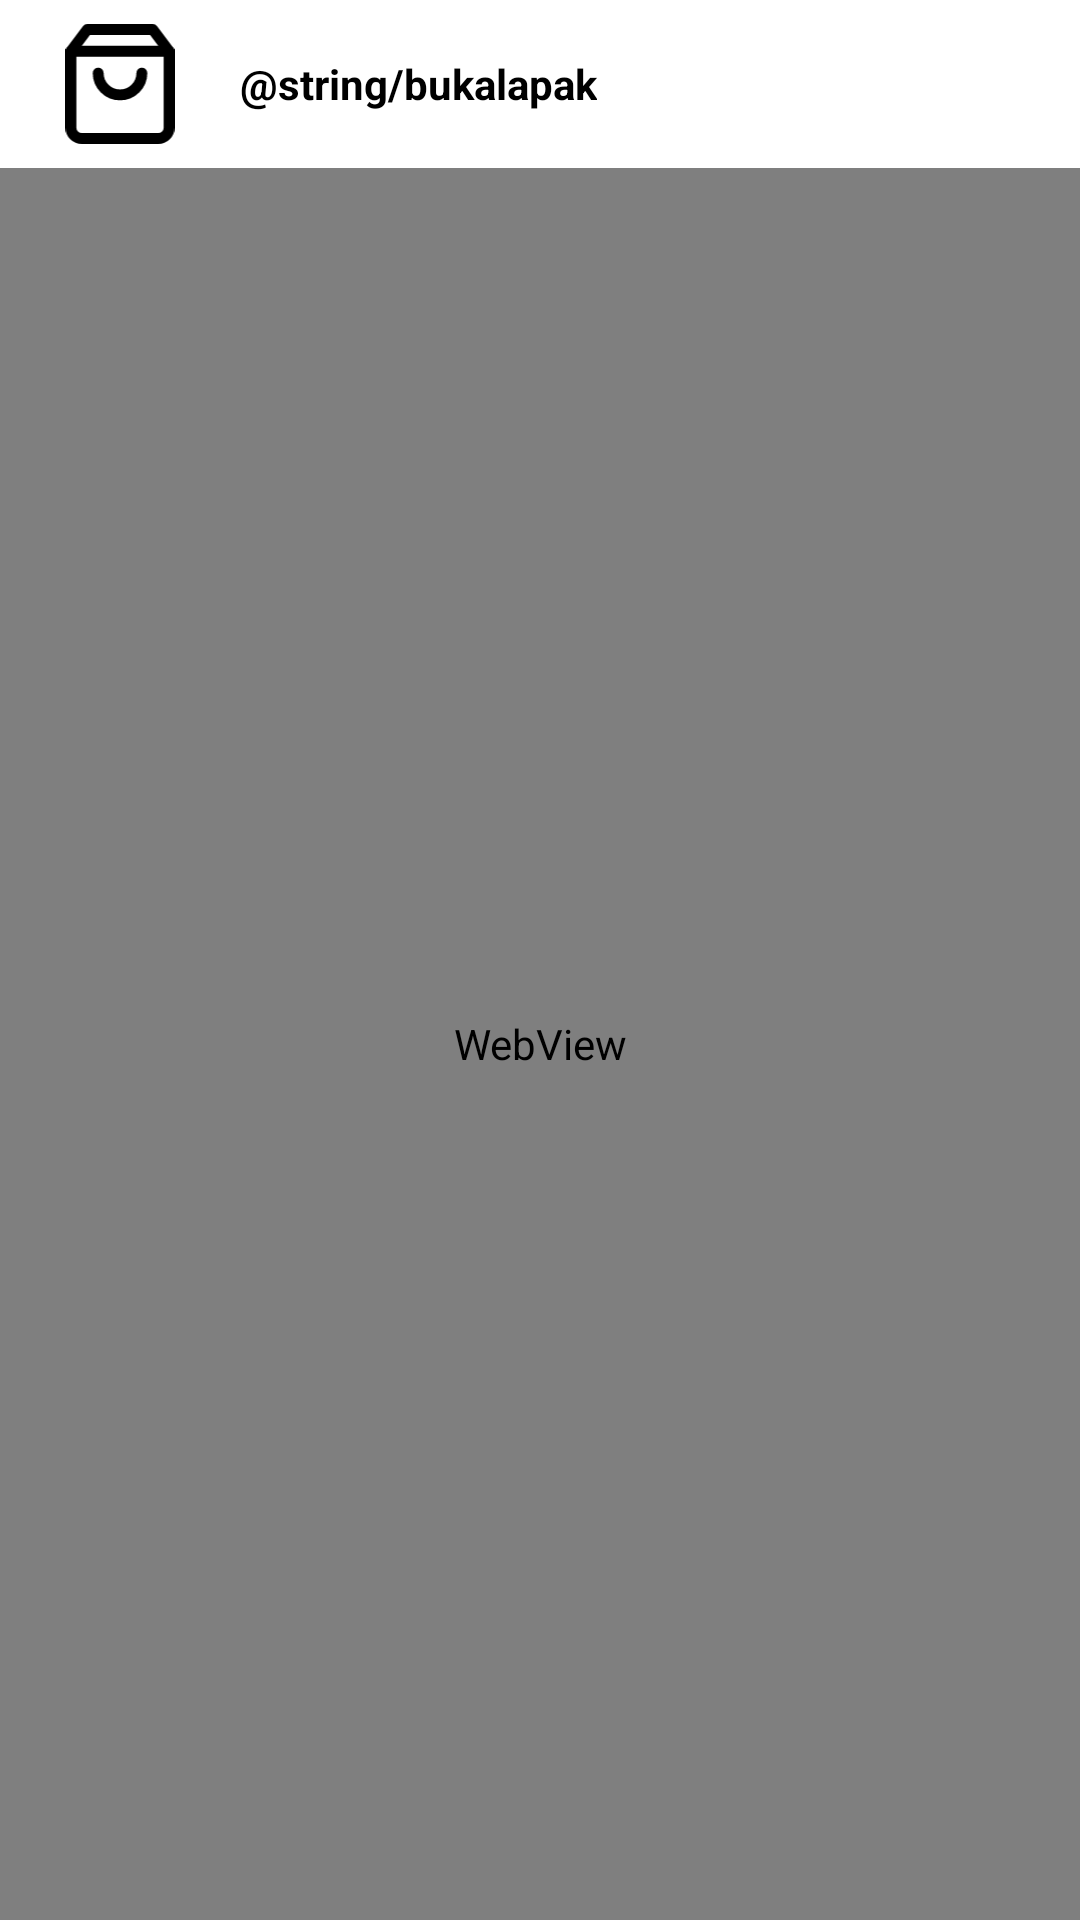

Icons on this 1080w x 1920h Android screen, each with the point to tap as [x,y]:
shopping: [120,84]
